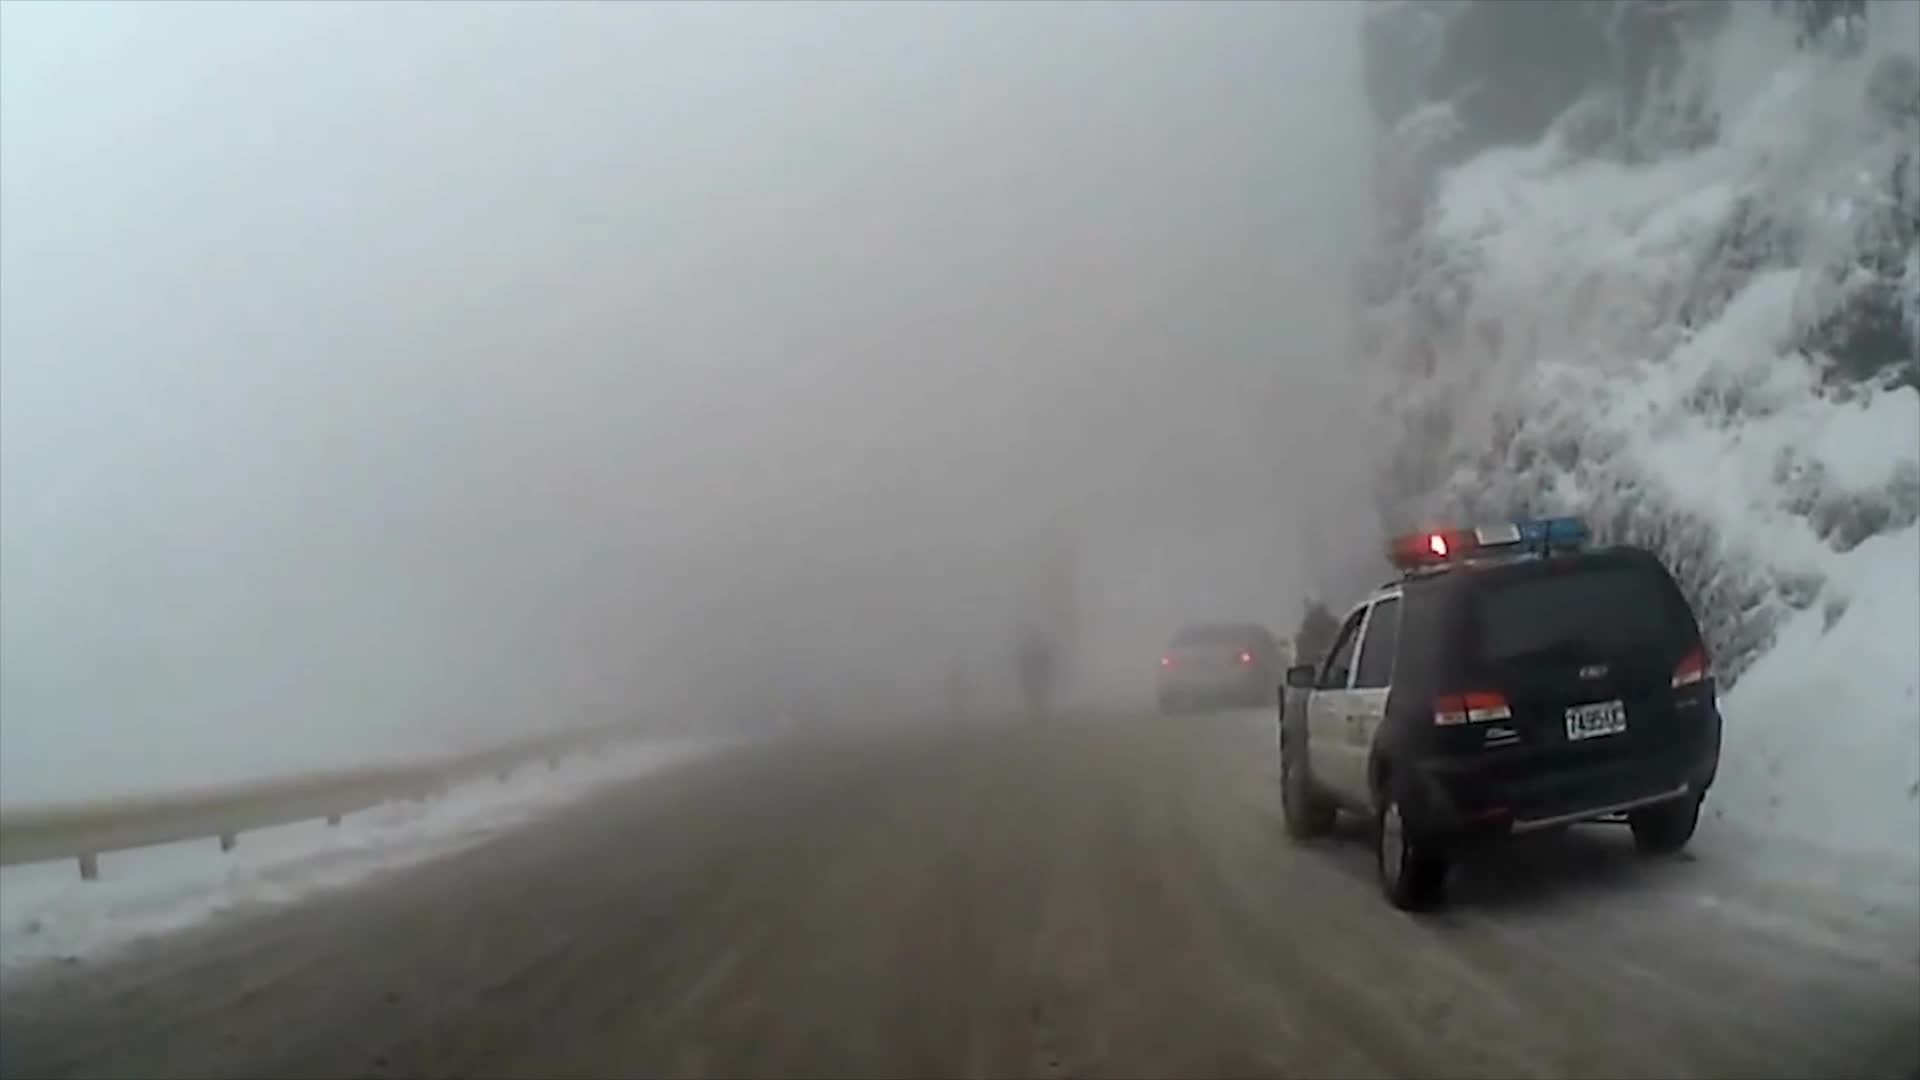pedestrian: (1292, 594, 1344, 735)
vehicle: (1274, 517, 1722, 912), (1157, 618, 1289, 713)
